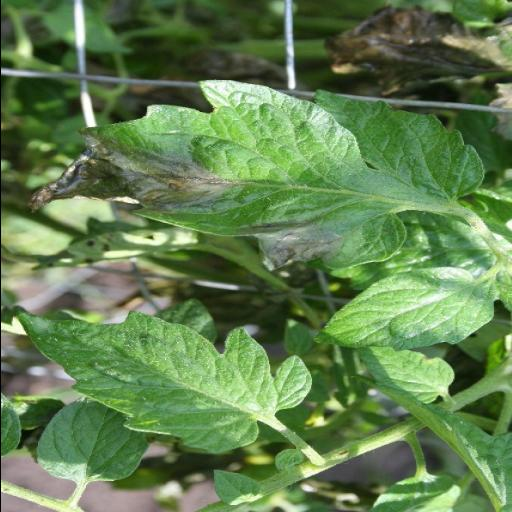Healthy: (12, 312, 316, 452), (309, 265, 501, 351)
Late Blight: (28, 76, 484, 274)
